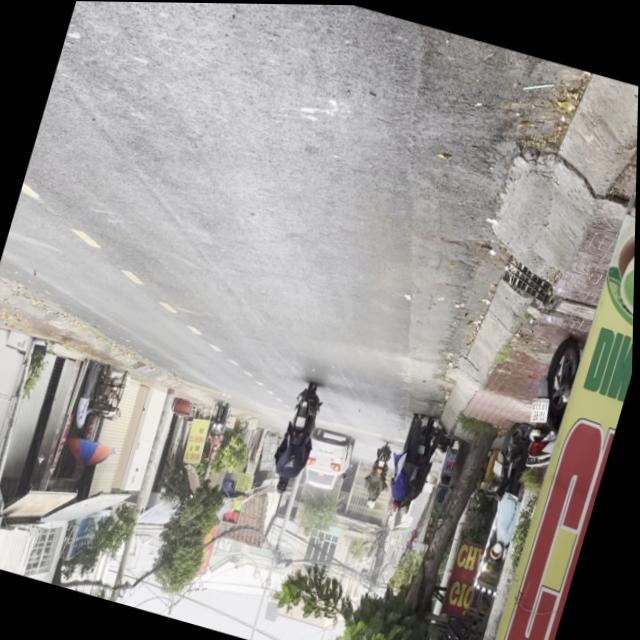nohelmet: (527, 391, 553, 424)
